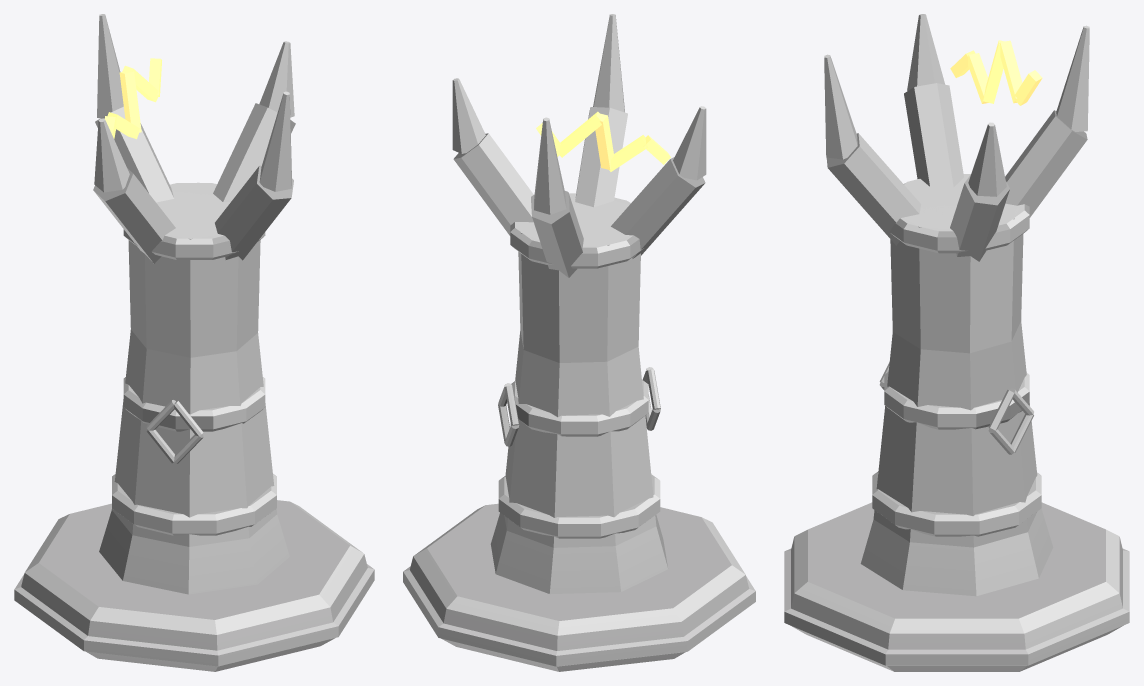
The model's file is spark.glb.
3 renders of one model, left to right at view 1: azimuth 30°, elevation 25°; view 2: azimuth 150°, elevation 25°; view 3: azimuth 270°, elevation 25°, orthographic. The views are drawn at different scales.
Visible parts, largest first — view 1: spark.001; view 2: spark.001; view 3: spark.001.
Boxes of the visible parts, left/top/right/bottom form: spark.001: left=14, top=14, right=374, bottom=671; spark.001: left=403, top=14, right=755, bottom=671; spark.001: left=784, top=14, right=1129, bottom=671.
Bounding box in the file's own units: 1.05 × 1.91 × 1.05.
